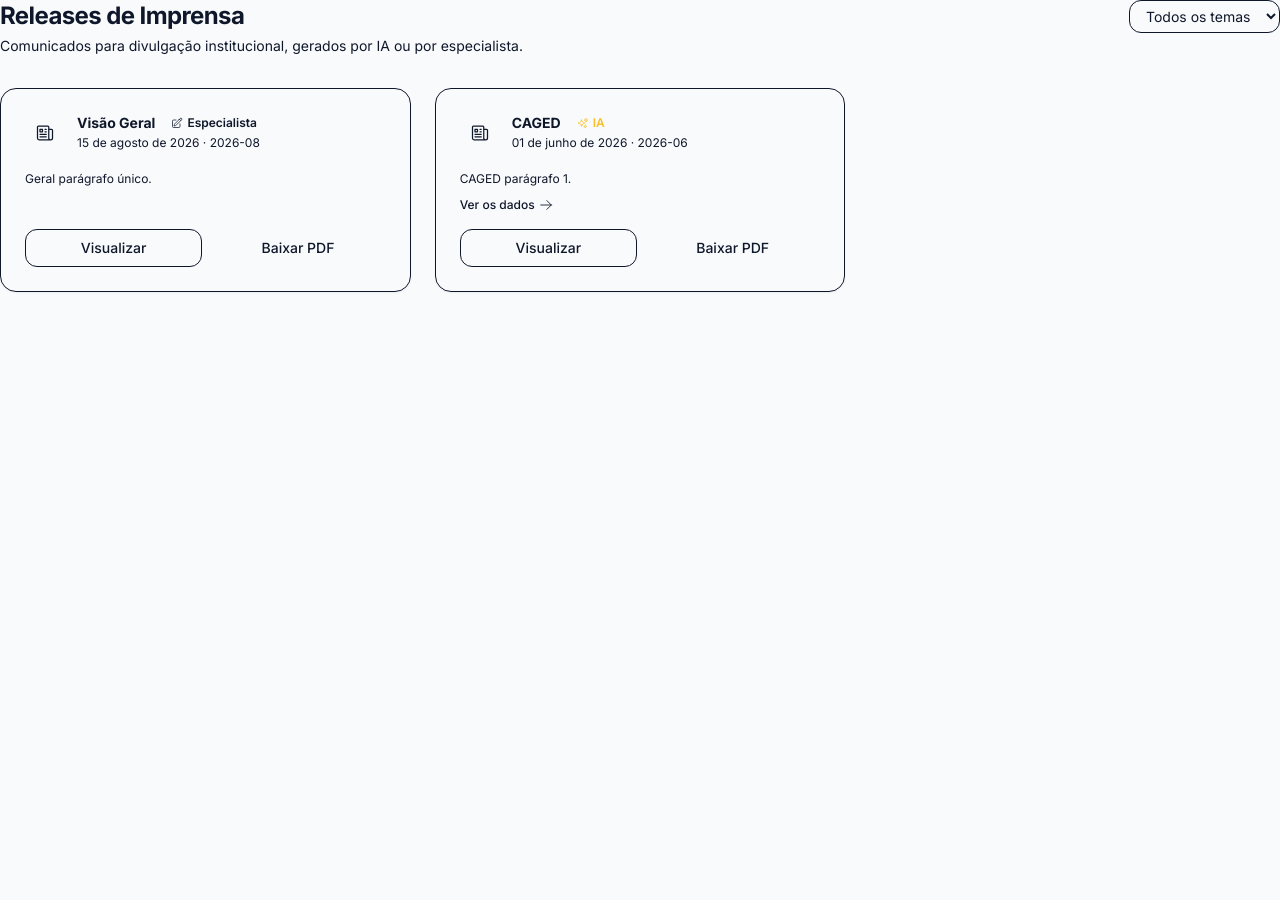
Test case: ReleasesPage — copiar texto no modal › 'Copiar tudo' junta os parágrafos com linha em branco e mostra 'Copiado!'
This screenshot has width=1280, height=900.
Click the button "Visualizar" below "Ver os dados". click: click(548, 248)
box: 460,228 -> 637,266
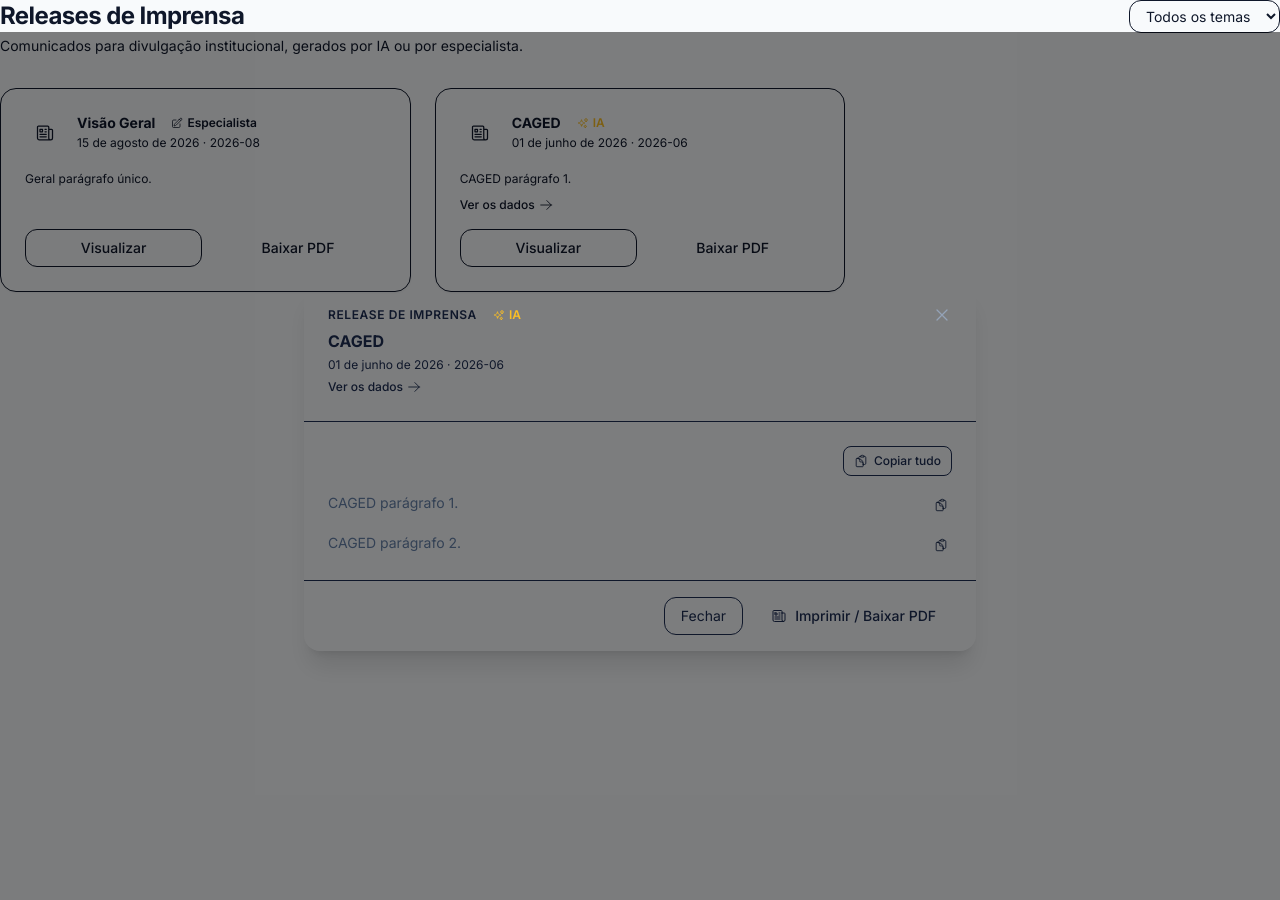
Click the button "Copiar tudo". click: click(897, 461)
box: 843,446 -> 952,476
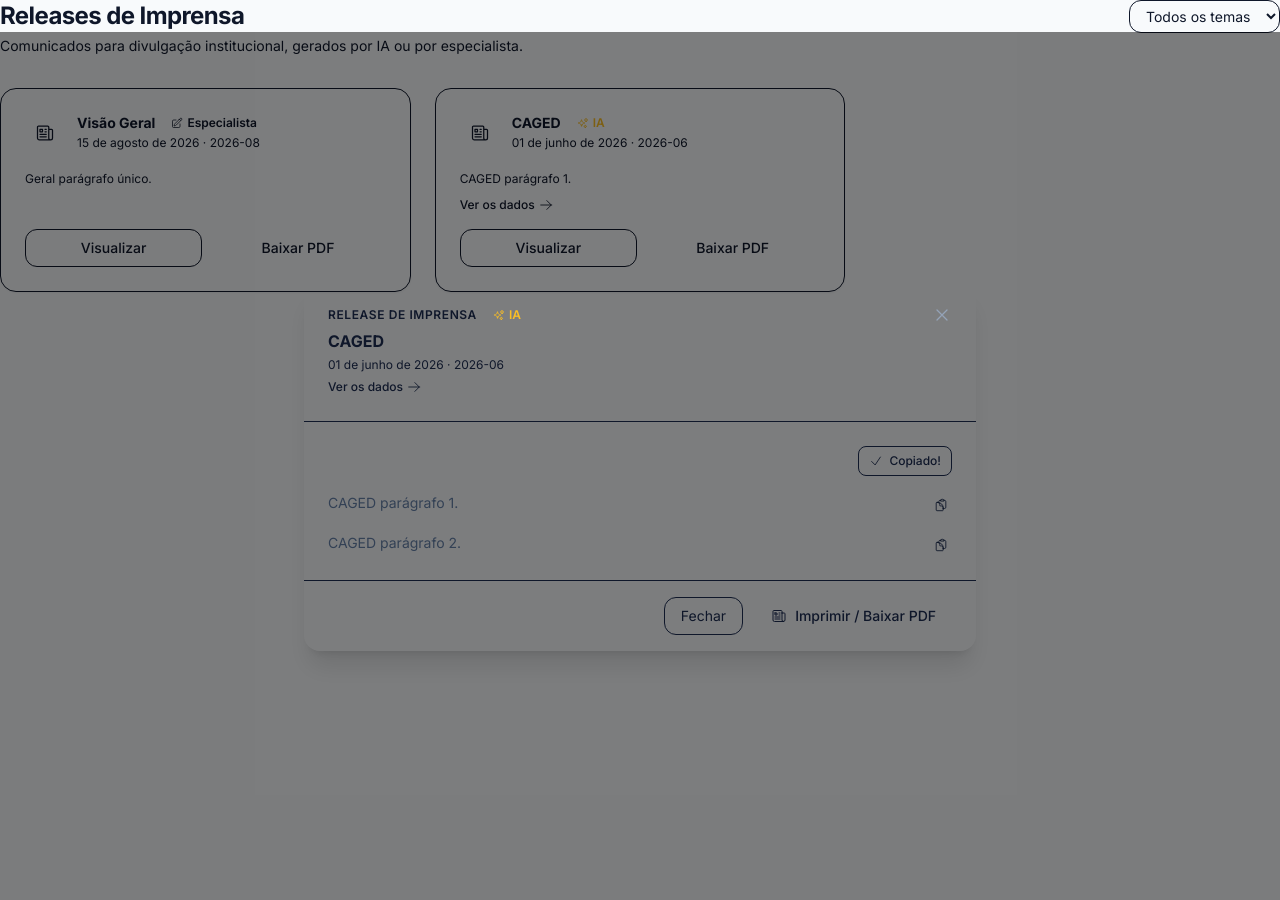
Expected: the button "Copiado!" is shown, 858,446 -> 952,476
